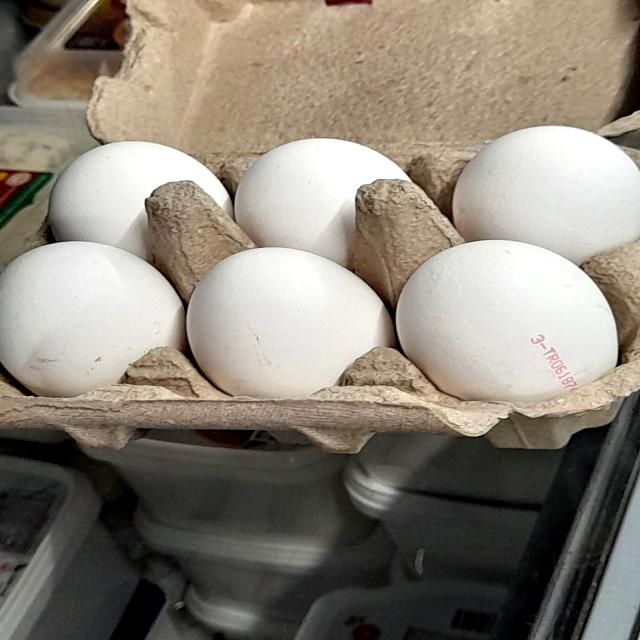egg: (394, 223, 626, 440), (158, 240, 398, 429), (0, 230, 197, 412)
